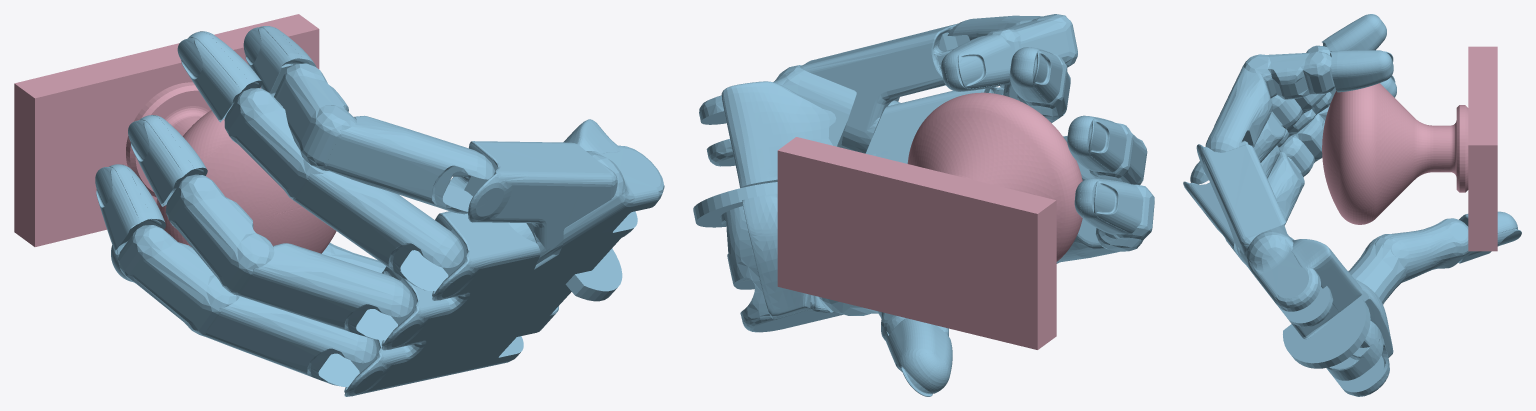
3 views of the same model, side by side, from view 1: azimuth 30°, elevation 25°; view 2: azimuth 150°, elevation 25°; view 3: azimuth 270°, elevation 25° (orthographic). The views are drawn at different scales.
Visible parts, largest first — view 1: world; view 2: world; view 3: world.
Boxes of the visible parts, x1,y1,x2,y2 form: world: (14,14,664,396); world: (693,14,1154,396); world: (1183,14,1521,396).
Bounding box in the file's own units: 0.1806 × 0.1307 × 0.1448.
